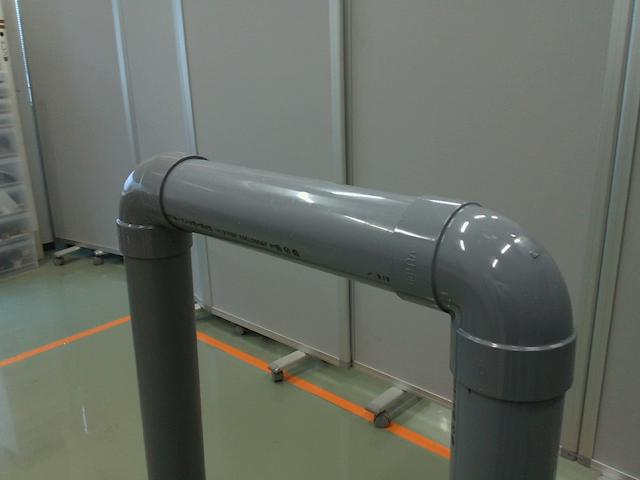bent: (383, 193, 577, 397), (118, 148, 217, 257)
